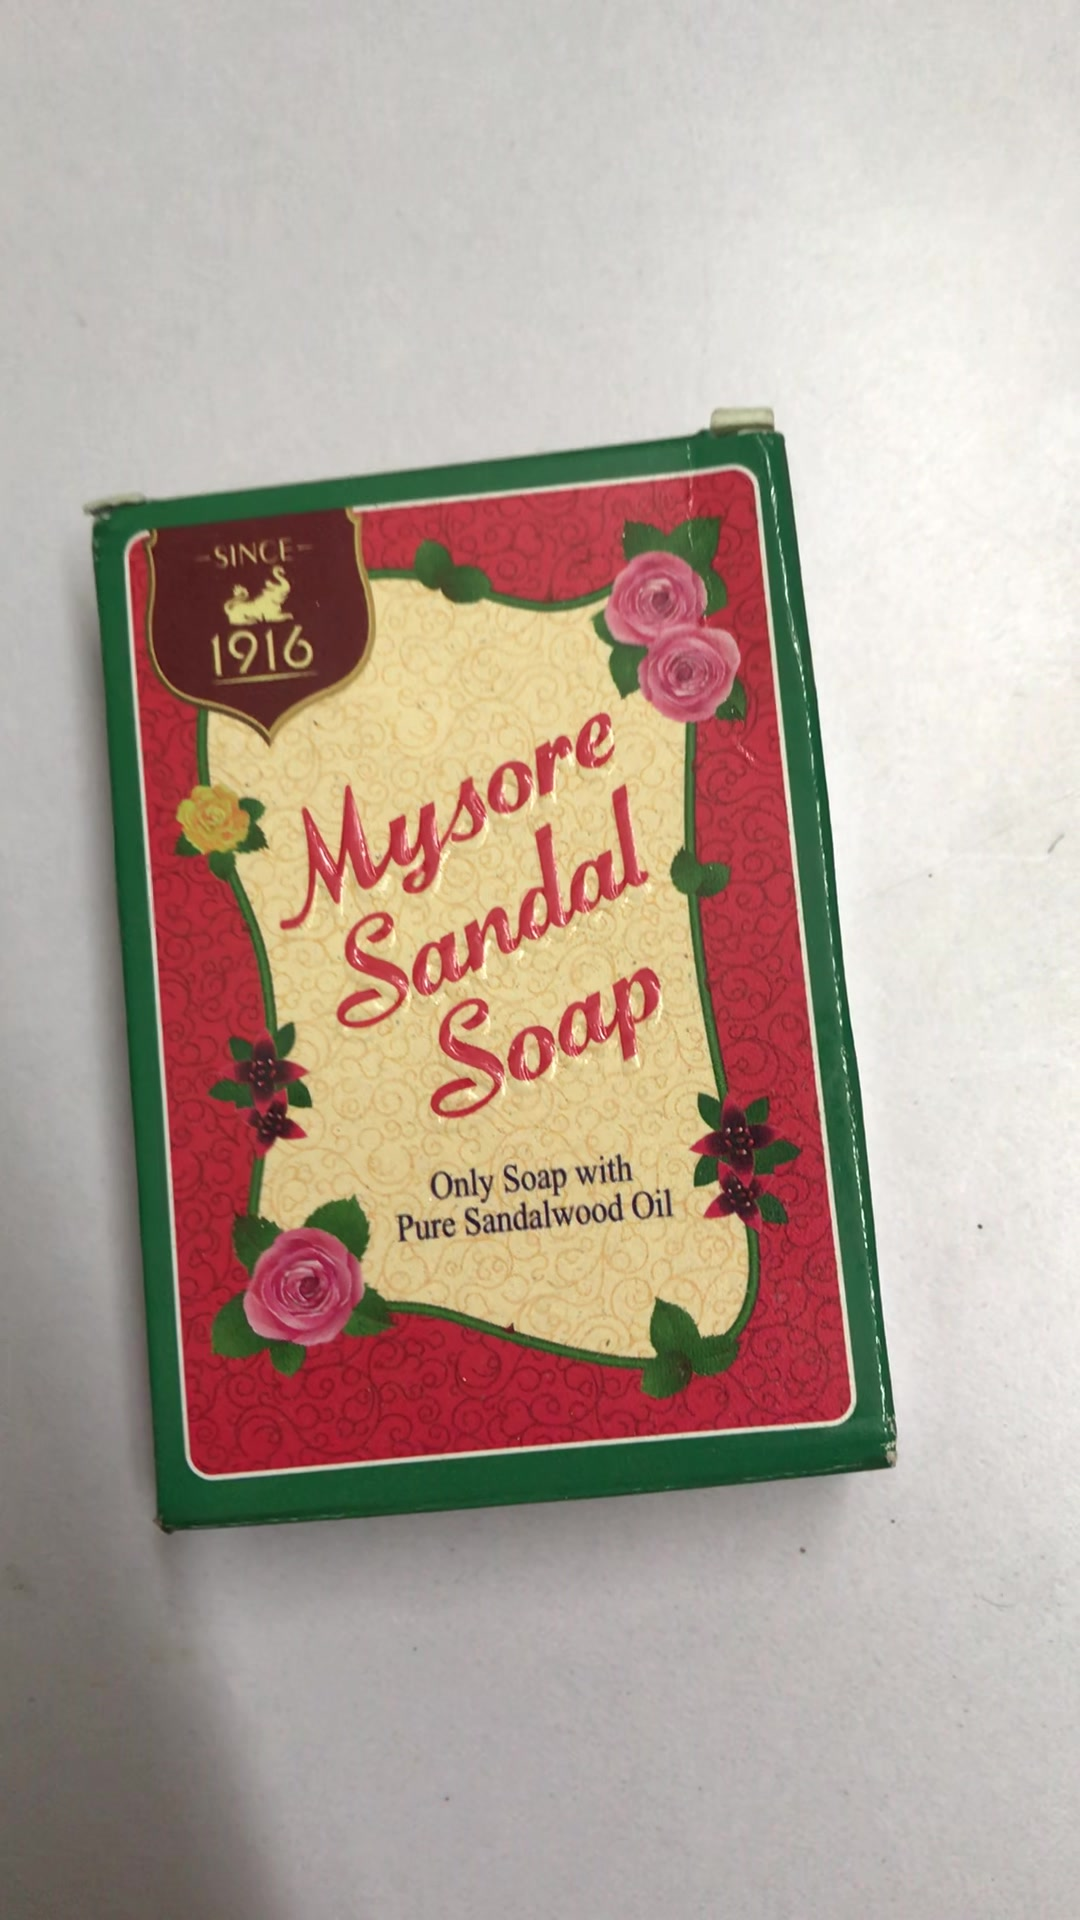mysore sandal soap: (99, 429, 899, 1528)
